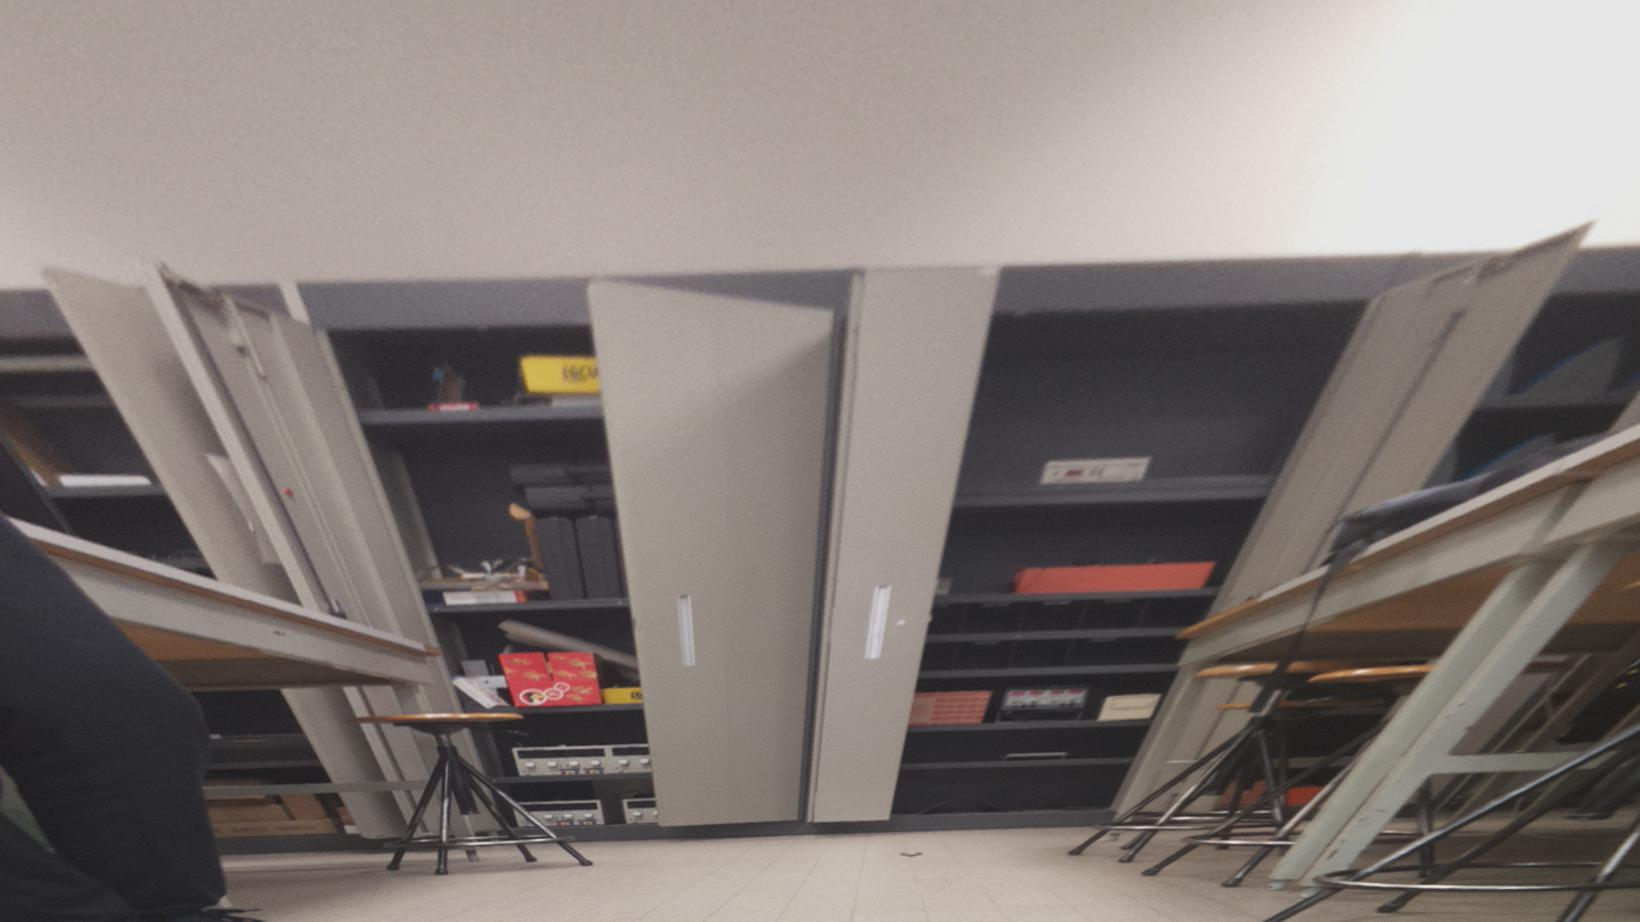small: (899, 850, 922, 859)
